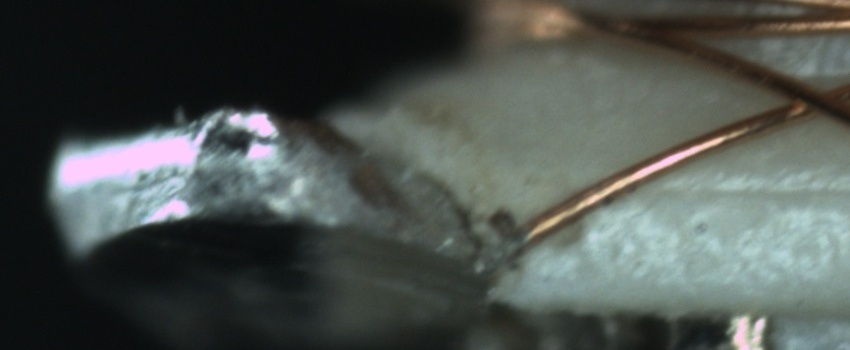CL: (767, 70, 846, 124)
DL: (612, 158, 846, 228)
TS: (469, 226, 534, 290)
